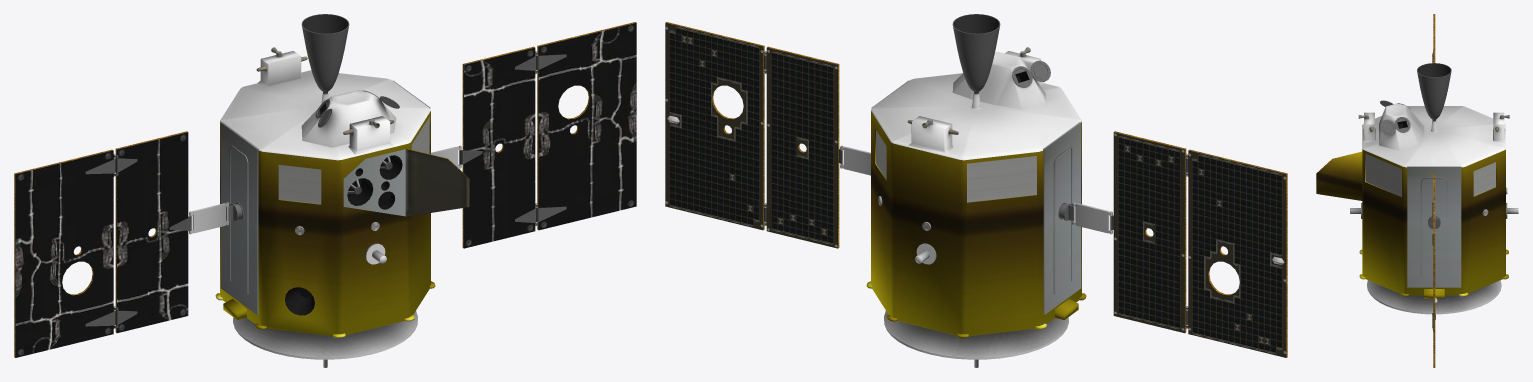
File: clementine.glb
3 views of the same model, side by side, from view 1: azimuth 30°, elevation 25°; view 2: azimuth 150°, elevation 25°; view 3: azimuth 270°, elevation 25° (orthographic). The views are drawn at different scales.
Parts seen in each view (by area): view 1: tex_01, foil_gold, foil_white, AO_dish, AO_hinges; view 2: shiny_panel, foil_gold, tex_01, foil_white, AO_dish, AO_hinges; view 3: foil_gold, tex_01, foil_white, AO_dish.
Boxes of the visible parts, box(x1,y1,x2,y2) form: tex_01: box(14, 14, 636, 357); foil_gold: box(215, 111, 469, 338); foil_white: box(220, 51, 430, 160); AO_dish: box(233, 243, 417, 367); AO_hinges: box(85, 51, 566, 328); shiny_panel: box(665, 23, 1286, 357); foil_gold: box(866, 111, 1086, 338); tex_01: box(665, 14, 1287, 357); foil_white: box(871, 51, 1081, 160); AO_dish: box(884, 243, 1068, 367); AO_hinges: box(764, 51, 1188, 328); foil_gold: box(1316, 149, 1508, 298); tex_01: box(1358, 14, 1509, 367); foil_white: box(1362, 103, 1505, 167); AO_dish: box(1350, 203, 1518, 319).
Bounding box in the file's own units: 4.13 × 2.18 × 1.6.
7 materials, 6 textured.
